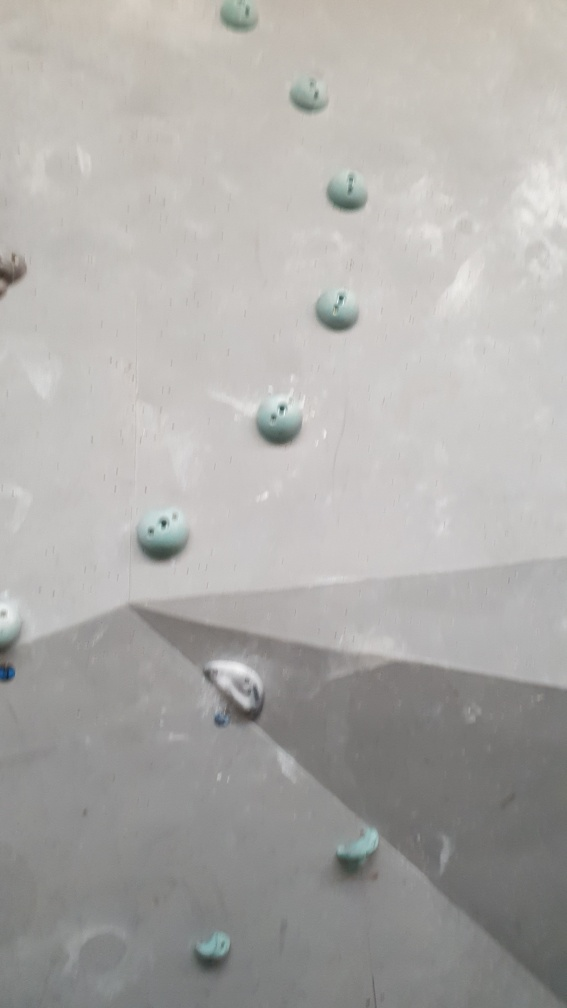Hand Start: (212, 709, 237, 730), (1, 661, 22, 685)
Sloper: (134, 498, 191, 562), (254, 391, 306, 446), (314, 285, 362, 335), (326, 165, 372, 214), (286, 72, 331, 115), (1, 598, 29, 657), (217, 1, 263, 32)
